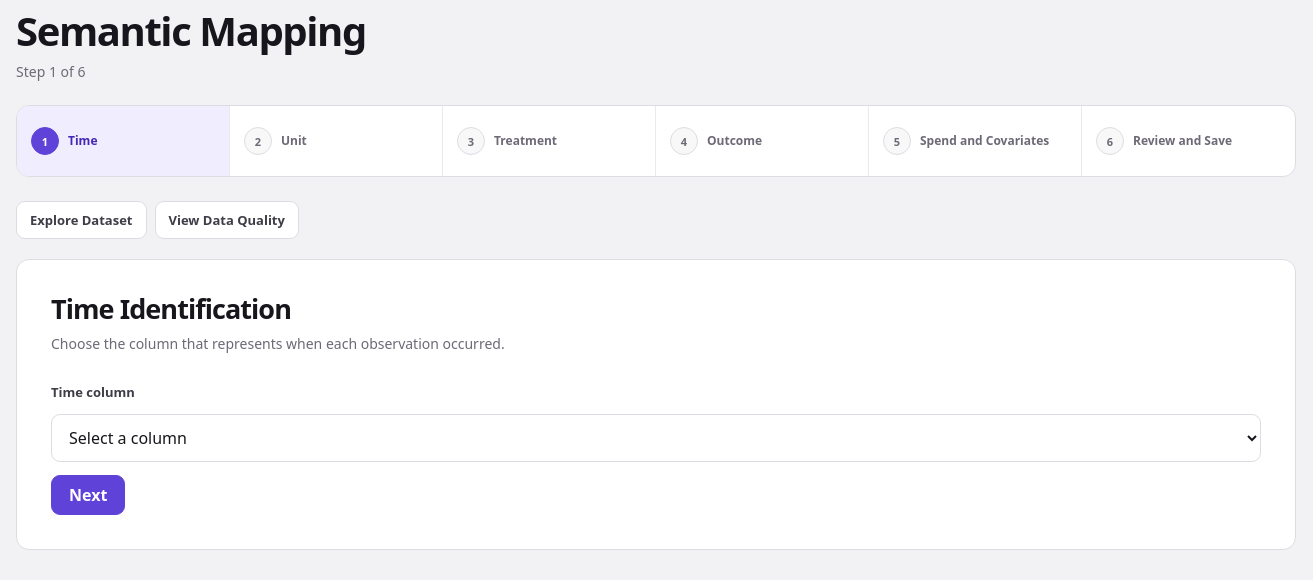
Test: semantic mapping ready dataset experience › moves from Time to Unit and preserves the Time selection when navigating back
Expected: the text "Step 1 of 6" is shown, [16, 62, 86, 81]
Select "event_date — date" in the dropdown labelled "Time column" at (656, 438), box [51, 414, 1261, 462]
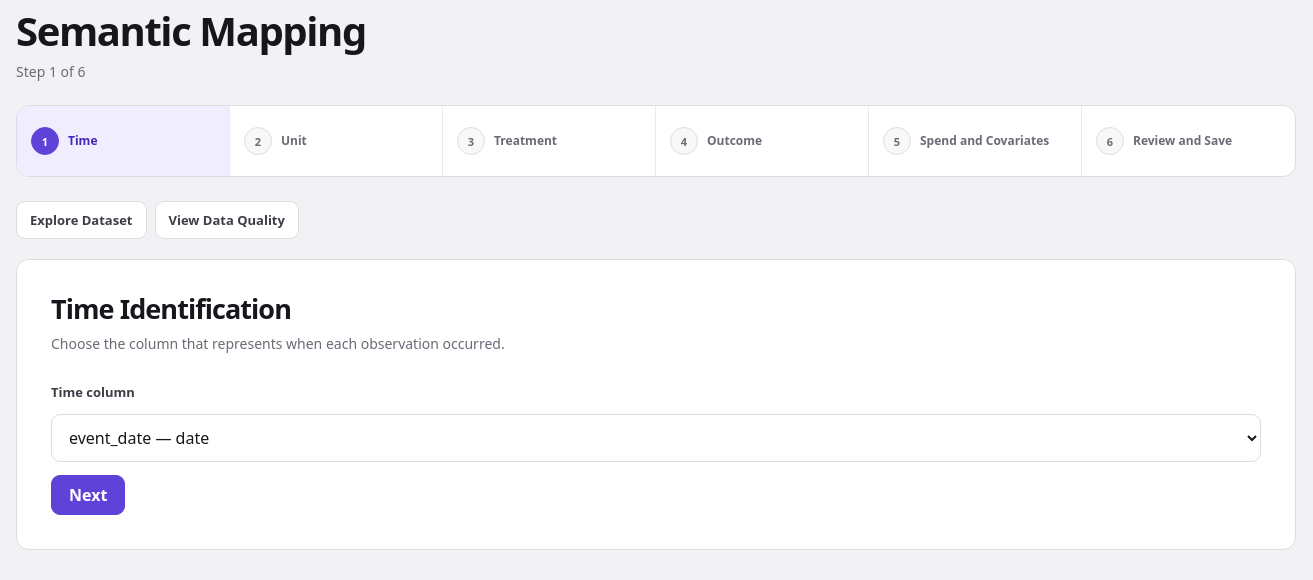
Click the button "Next" at (88, 495), box [51, 475, 125, 515]
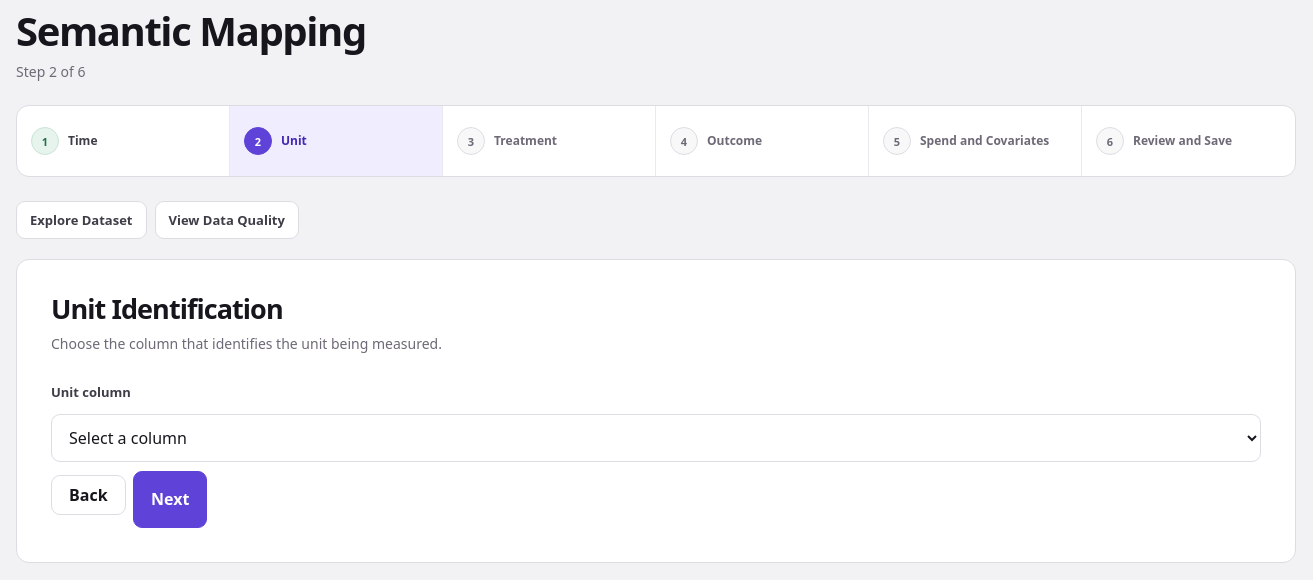
Now the text "Step 2 of 6" is shown, box [16, 62, 86, 81]
Now the heading "Unit Identification" is shown, box [51, 290, 283, 327]
Click the button "Back" at (88, 495), box [51, 475, 126, 515]
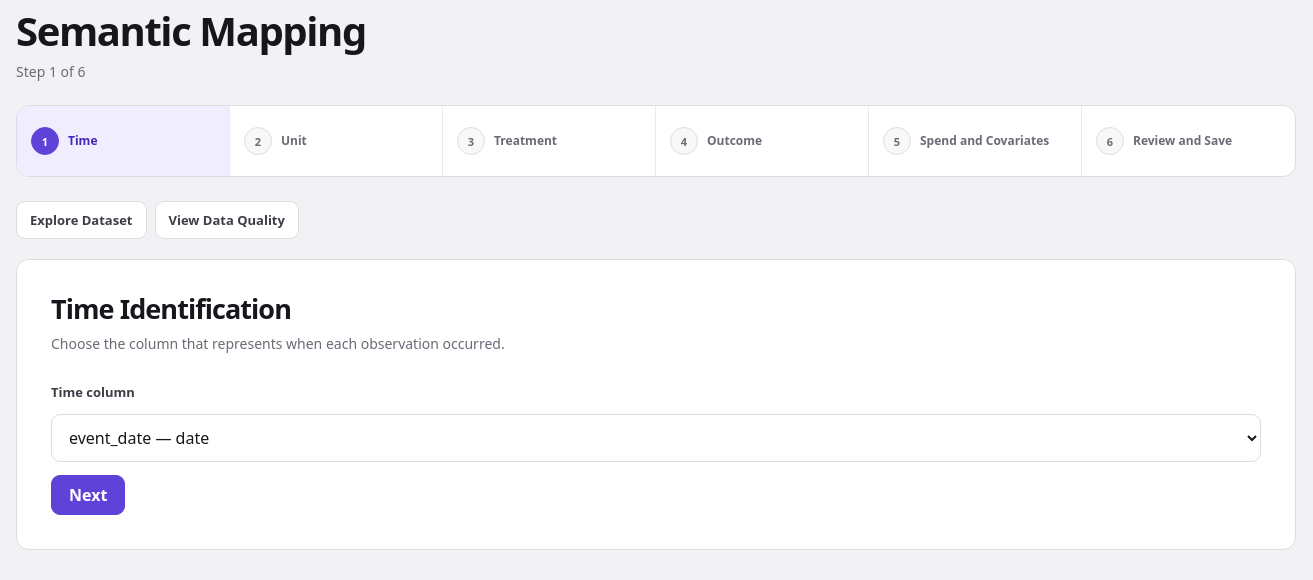
Now the text "Step 1 of 6" is shown, box [16, 62, 86, 81]
